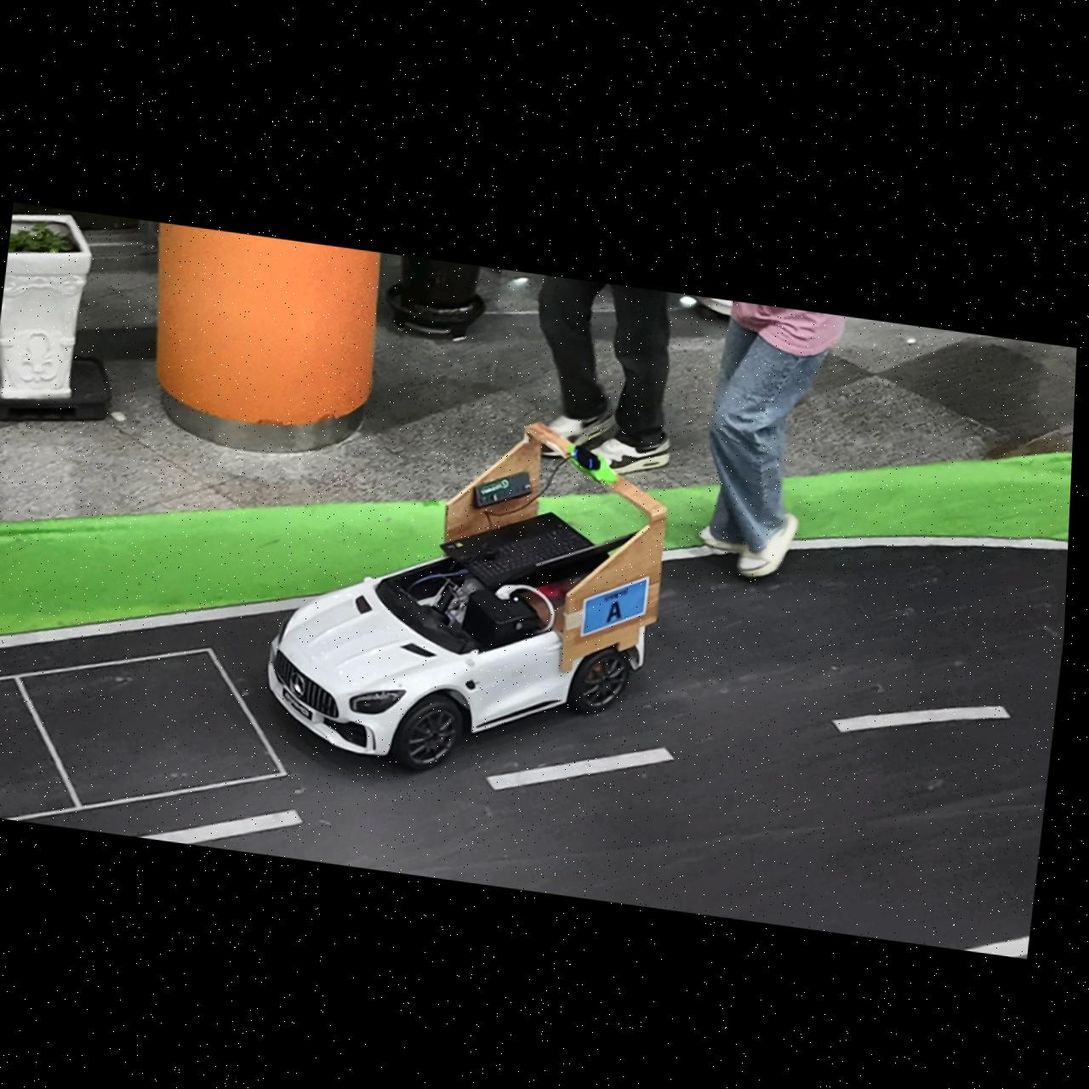broken_line: (484, 748, 674, 790), (140, 809, 302, 844), (832, 707, 1011, 733)
